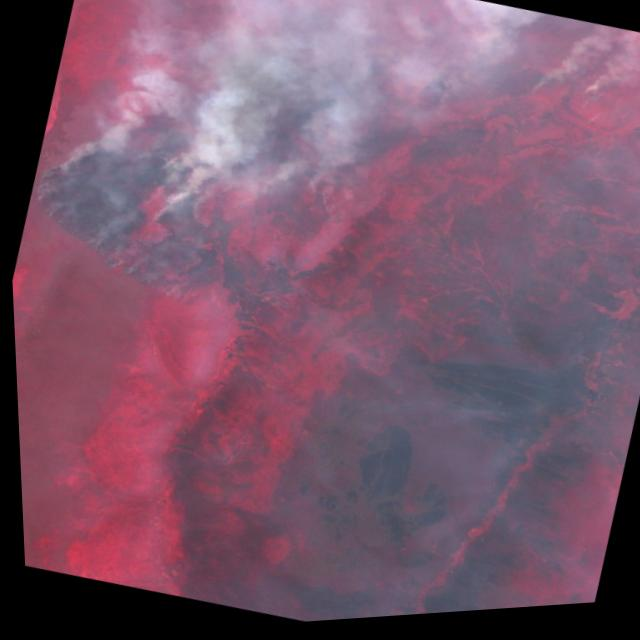fire: (1, 0, 627, 414)
